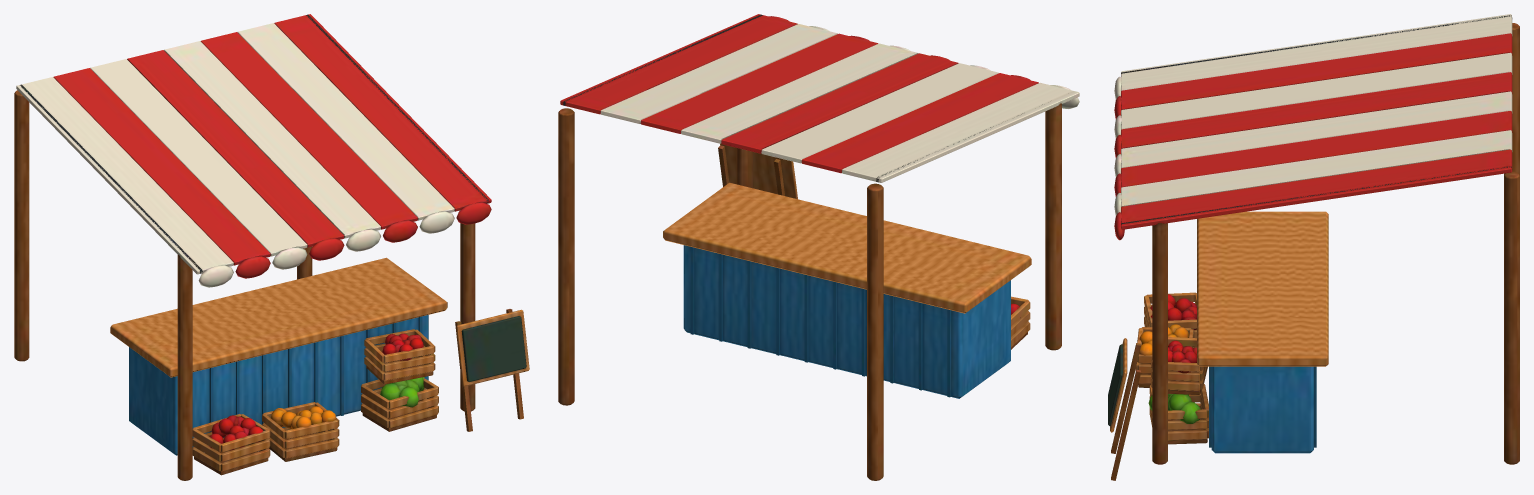
The model's file is stall.glb.
3 views of the same model, side by side, from view 1: azimuth 30°, elevation 25°; view 2: azimuth 150°, elevation 25°; view 3: azimuth 270°, elevation 25° (orthographic). The views are drawn at different scales.
Visible parts, largest first — view 1: stall; view 2: stall; view 3: stall.
Boxes of the visible parts, <box> form: stall: <box>14,14,529,480</box>; stall: <box>558,14,1079,480</box>; stall: <box>1108,14,1519,480</box>.
Size of the model in its own units: 1.67 by 1.35 by 1.69.
Materials: 1 (1 with a texture image).
